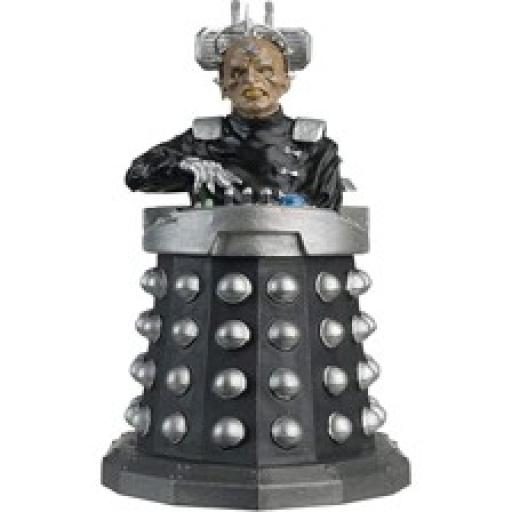dalek: (102, 189, 411, 512)
